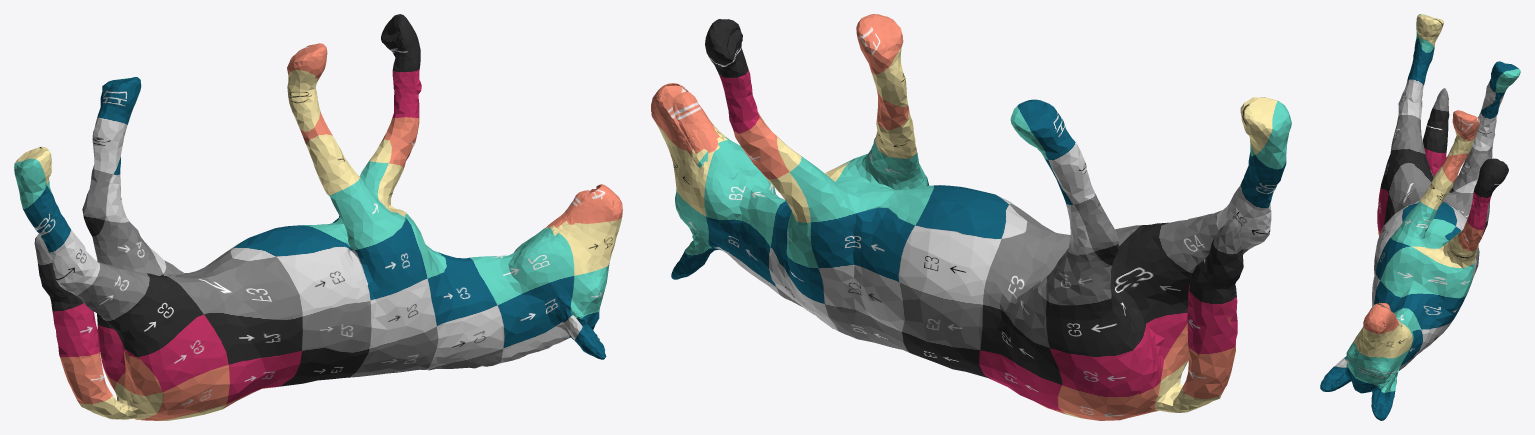
The model's file is horse_03-horse_04.obj.
3 views of the same model, side by side, from view 1: azimuth 30°, elevation 25°; view 2: azimuth 150°, elevation 25°; view 3: azimuth 270°, elevation 25° (orthographic). The views are drawn at different scales.
Parts seen in each view (by area): view 1: horse_03-horse_04_export; view 2: horse_03-horse_04_export; view 3: horse_03-horse_04_export.
Boxes of the visible parts, x1,y1,x2,y2 form: horse_03-horse_04_export: (14,14,622,420); horse_03-horse_04_export: (651,14,1291,420); horse_03-horse_04_export: (1320,14,1520,420).
Bounding box in the file's own units: 1.09 × 0.5769 × 0.4582.
